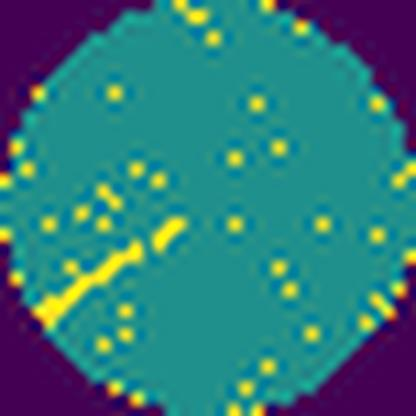Scratch: (28, 237, 147, 330)
